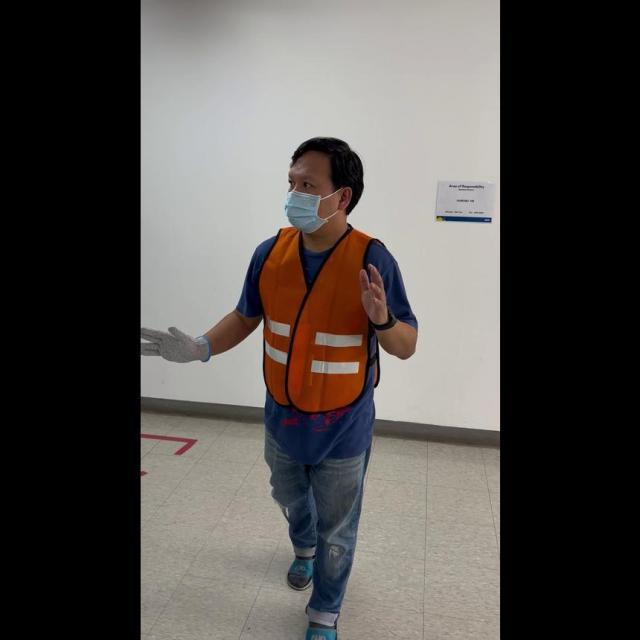bare_hand: (356, 257, 391, 325)
gloved_hand: (141, 321, 211, 366)
